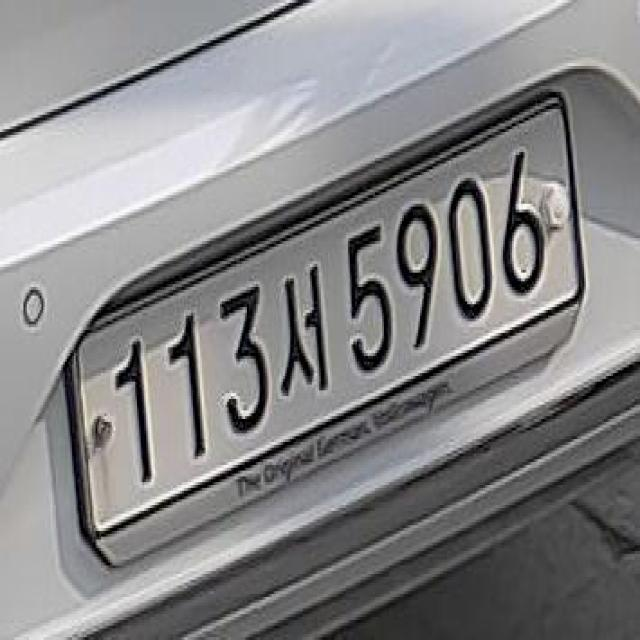illegal_plate: (70, 97, 590, 557)
